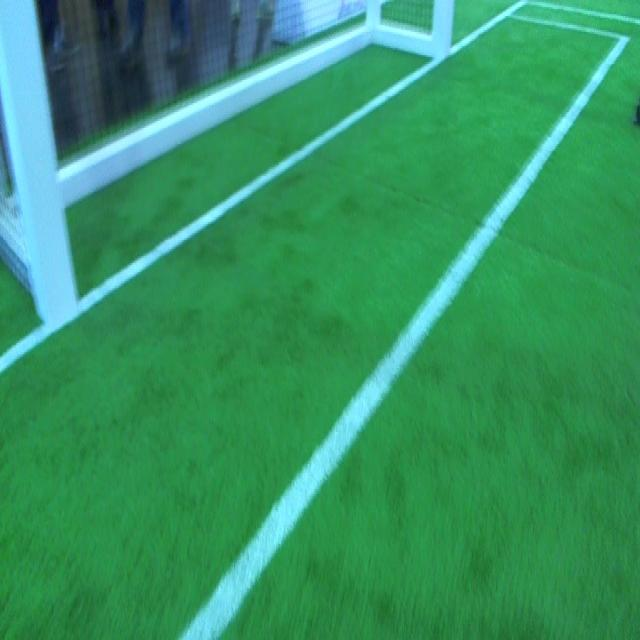goalpost: (0, 2, 80, 334), (429, 0, 456, 68)
